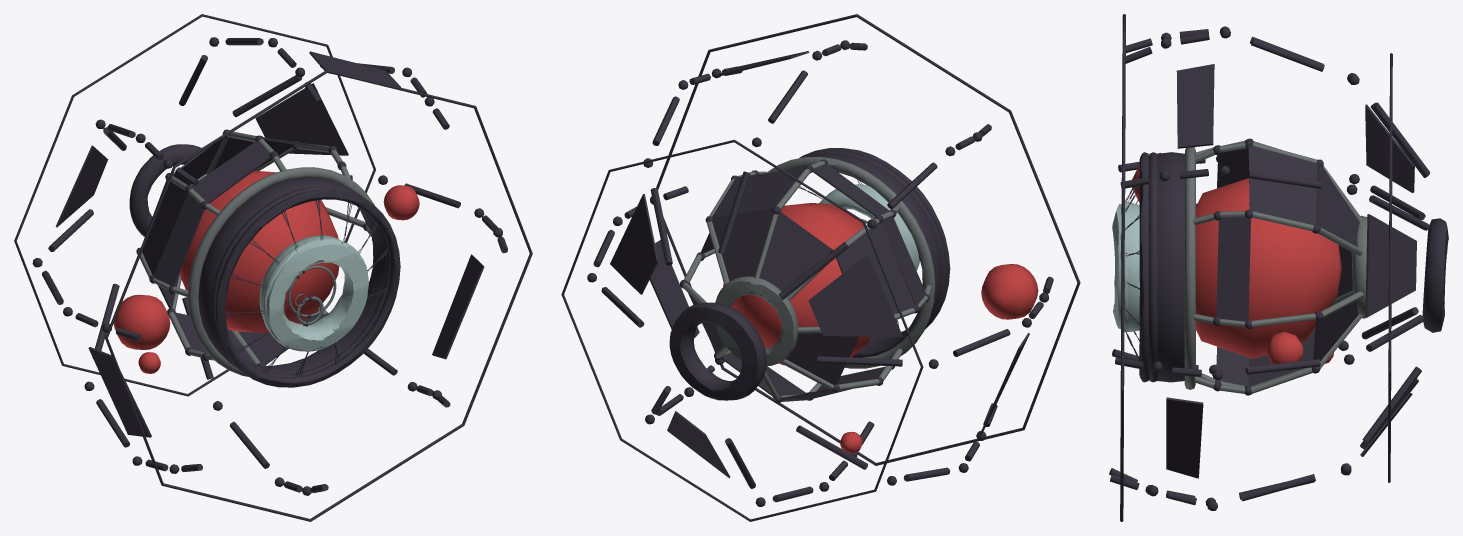
The model's file is Laser Source.fbx.
3 views of the same model, side by side, from view 1: azimuth 30°, elevation 25°; view 2: azimuth 150°, elevation 25°; view 3: azimuth 270°, elevation 25° (orthographic). The views are drawn at different scales.
Visible parts, largest first — view 1: pSphere77; view 2: pSphere77; view 3: pSphere77.
Boxes of the visible parts, bbox=[...] form: pSphere77: bbox=[14, 14, 532, 521]; pSphere77: bbox=[561, 14, 1080, 521]; pSphere77: bbox=[1109, 14, 1448, 521].
Bounding box in the file's own units: 302 × 302 × 193.
